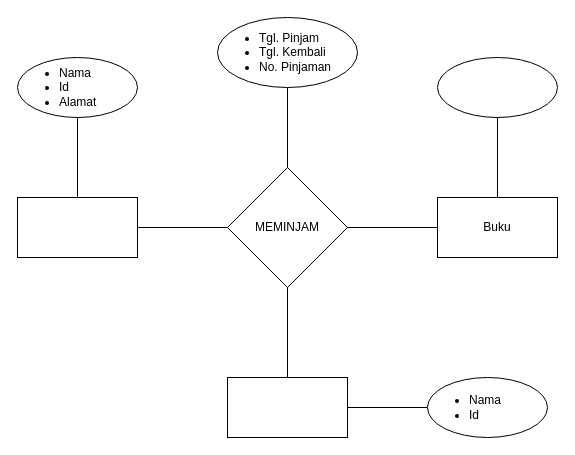
Image size: 575x455. Some labels were removed from this diagram. The shapes that lost their labels are listed below. From the top down, each one's centre as x and y in pixels, then its label:
At point 497,87: "Judul Jenis Buku Id Buku".
At point 77,227: "Peminjam".
At point 287,407: "Pustakawan".
